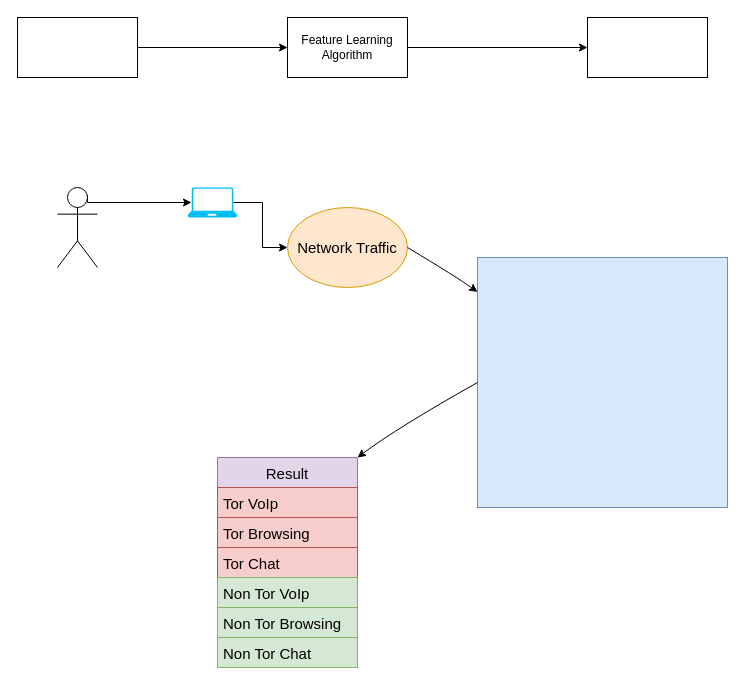
Some shapes in this 745 by 685 pixel diagram are drawn without their labels. The shapes that lost their labels are listed below. From the top down, each one's centre as x and y in pixels, then its label:
At (77,47): "Input Traffic Flow".
At (647,47): "Labelling".
At (77,227): "Actor".
At (602,382): "Trained Model".
